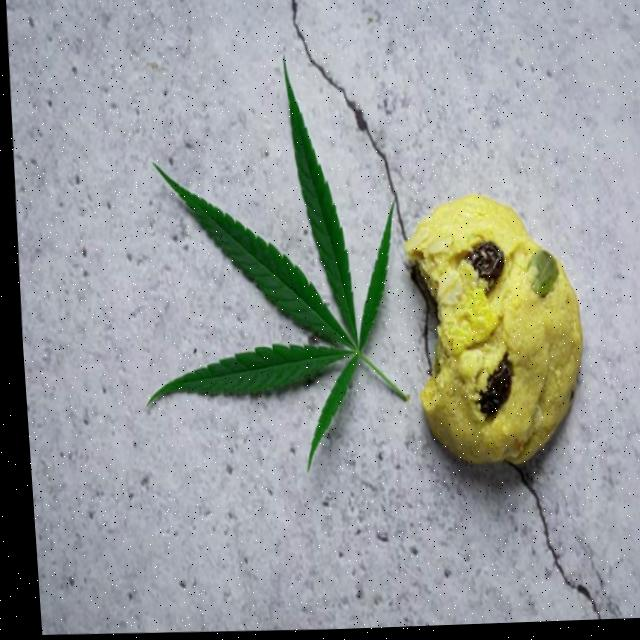cannabis: (148, 60, 411, 472)
